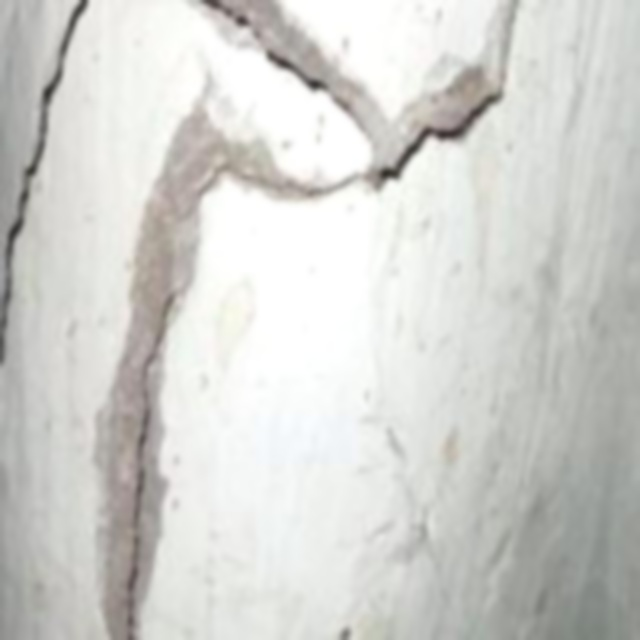SurfaceCrack: (78, 256, 234, 640)
